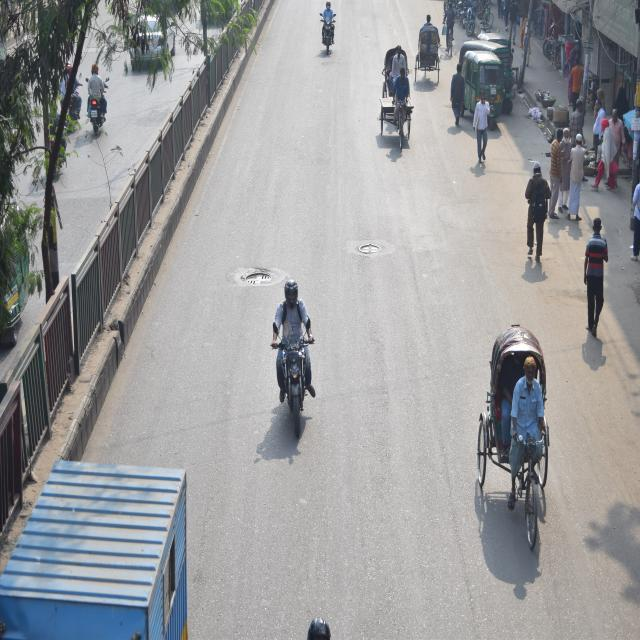car: (132, 13, 182, 70)
motorbike: (270, 321, 315, 440), (82, 80, 113, 139), (313, 10, 342, 66)
pickup-van: (1, 448, 192, 640)
